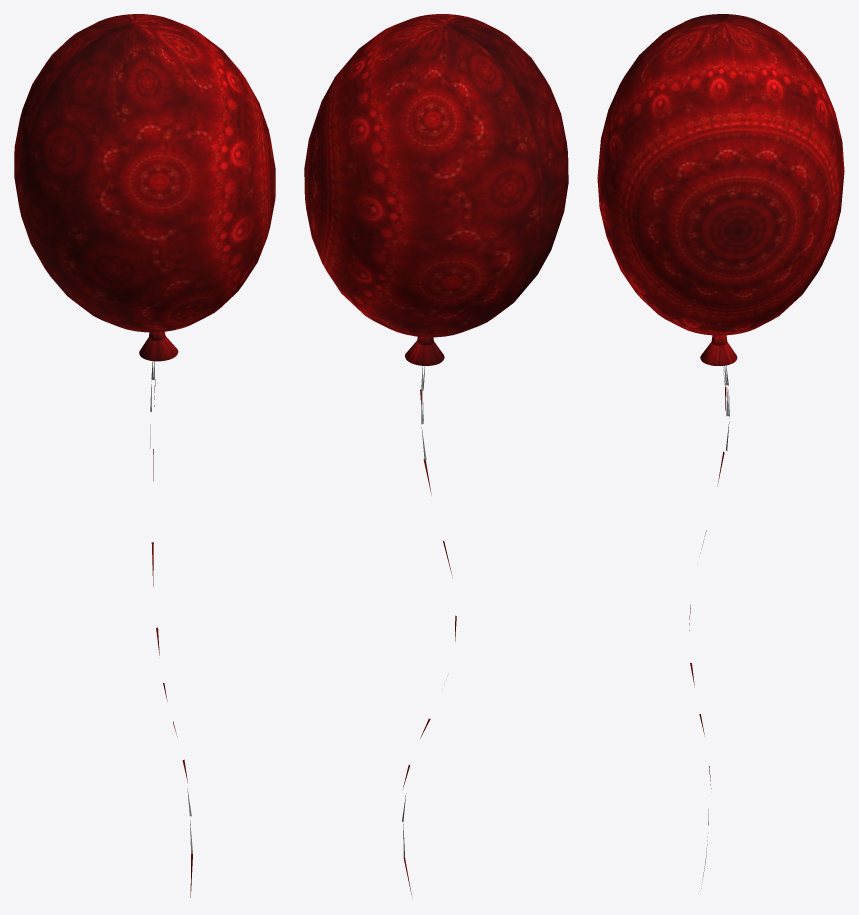
File: globo.obj
3 views of the same model, side by side, from view 1: azimuth 30°, elevation 25°; view 2: azimuth 150°, elevation 25°; view 3: azimuth 270°, elevation 25° (orthographic). The views are drawn at different scales.
Parts seen in each view (by area): view 1: default; view 2: default; view 3: default.
Part boxes in pixels (x1,y1,x2,y2): default: (14,14,275,897); default: (304,14,568,897); default: (597,14,844,890).
Size of the model in its own units: 1.38 by 5.1 by 1.33.
3 materials, 1 textured.
